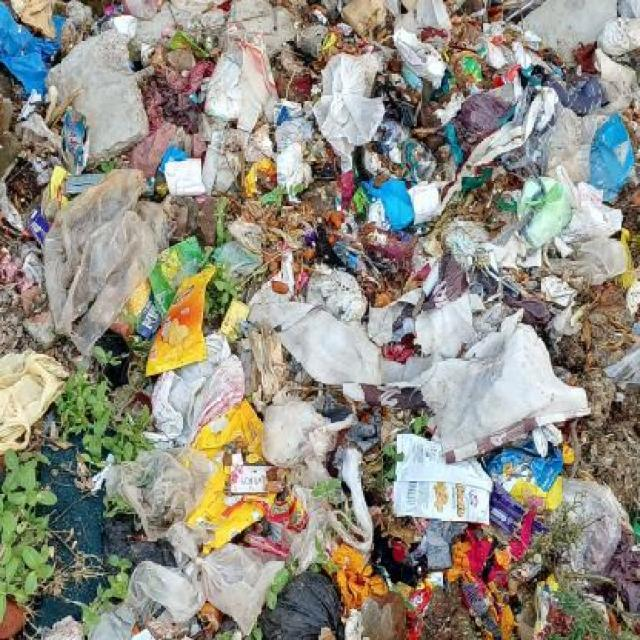garbage: (2, 0, 640, 639)
